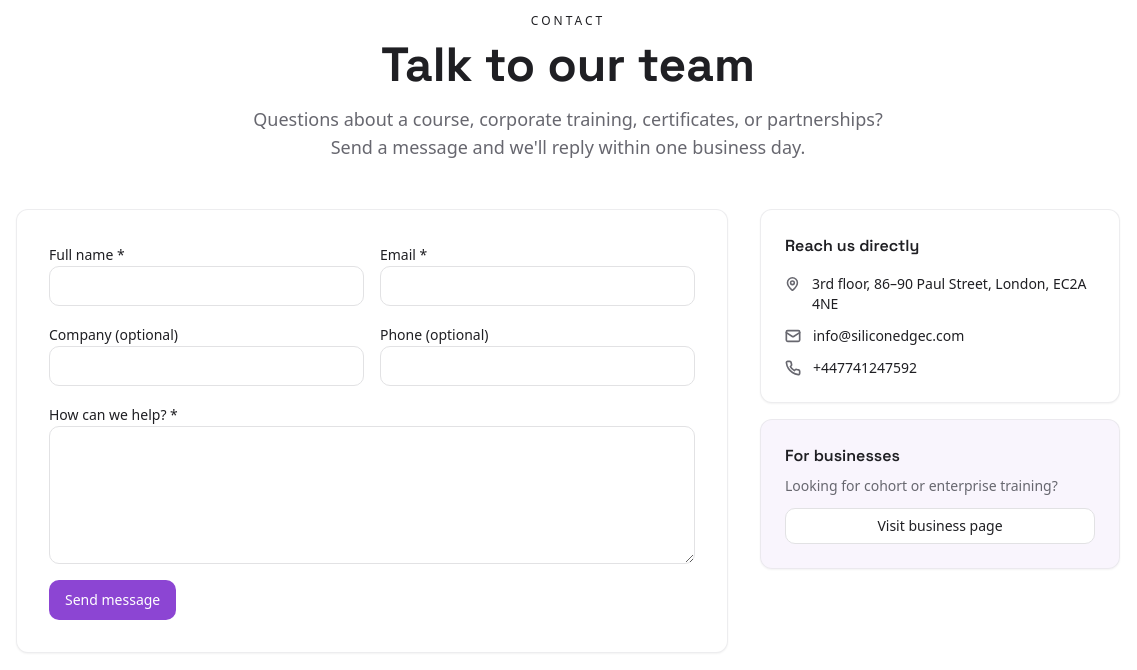
Test: waits for a successful insert, then sends exactly one PII-free conversion
Step 1. Type "Test Enquirer" into the field labelled "Full name *" → (206, 286), box left=49, top=266, right=364, bottom=306
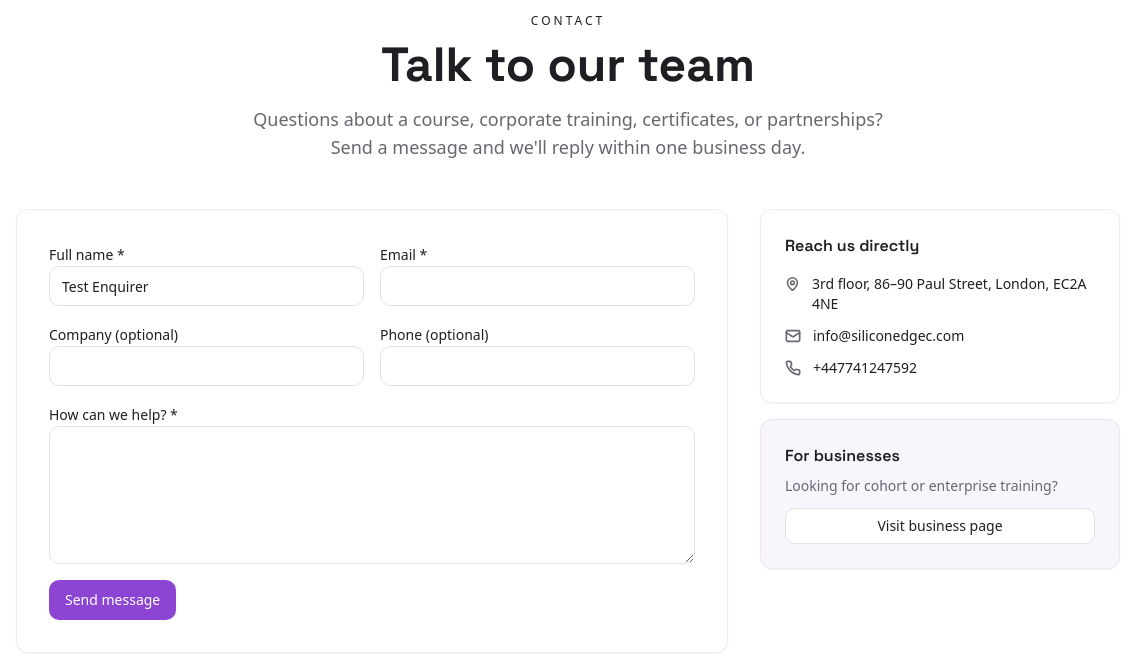
Step 2. Type "enquiry@example.test" into the field labelled "Email *" → (538, 286), box left=380, top=266, right=695, bottom=306
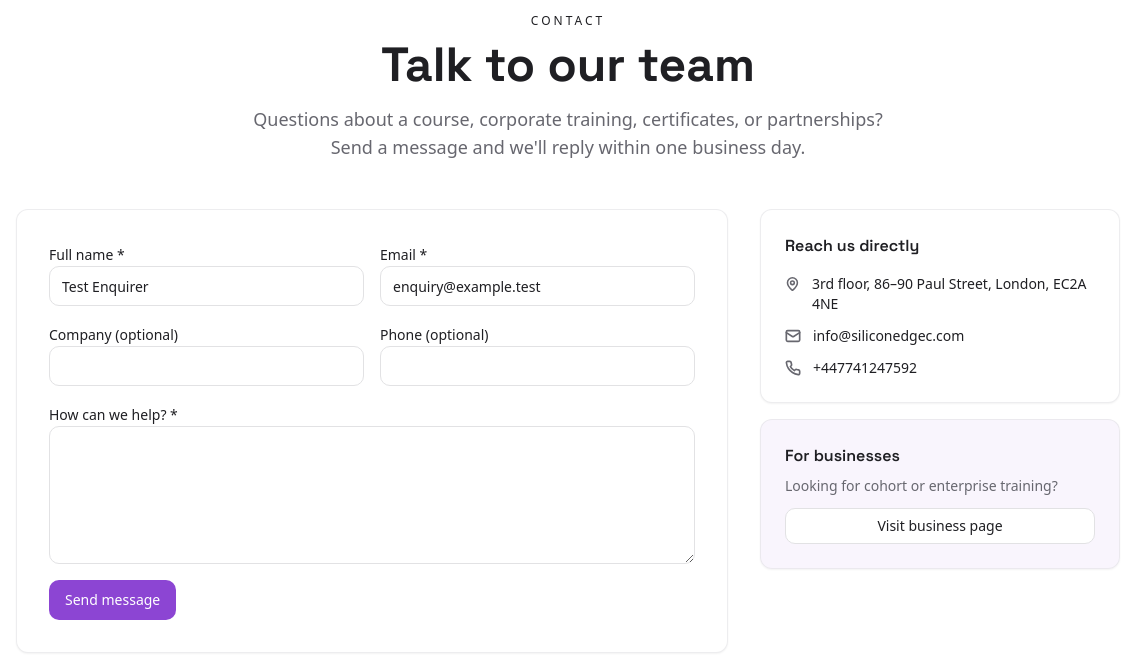
Step 3. Type "Test message" into the text box labelled "How can we help? *" → (372, 495), box left=49, top=426, right=695, bottom=564
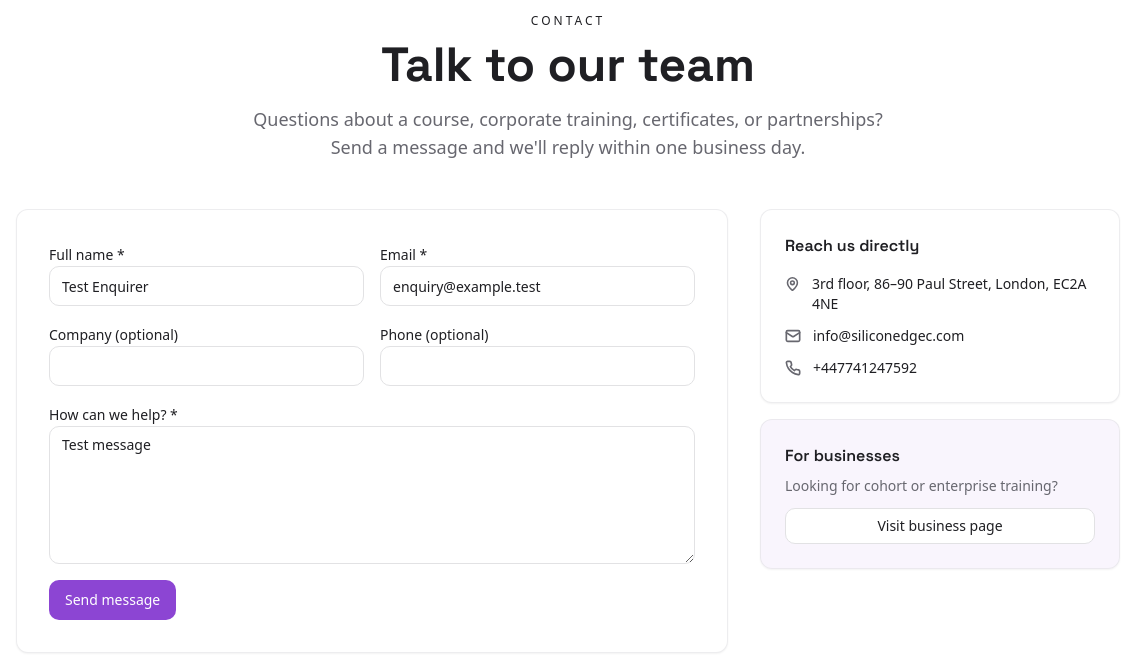
Step 4. Submit the form, box left=49, top=242, right=695, bottom=620
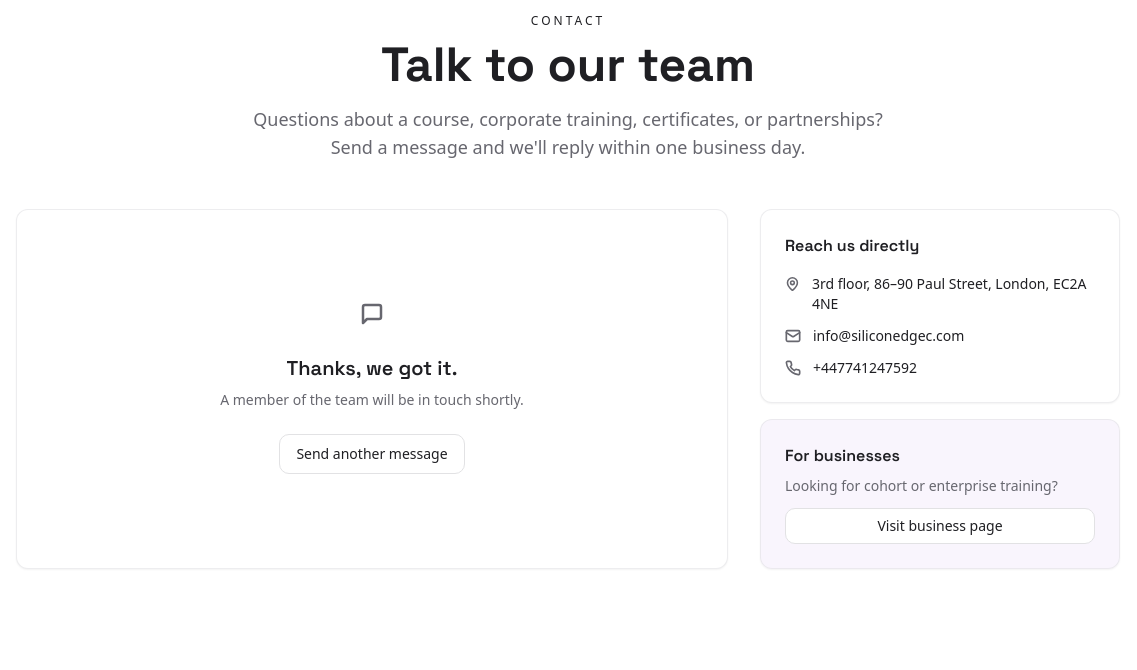
expect the heading "Thanks, we got it." is shown: met, box left=286, top=355, right=457, bottom=381
